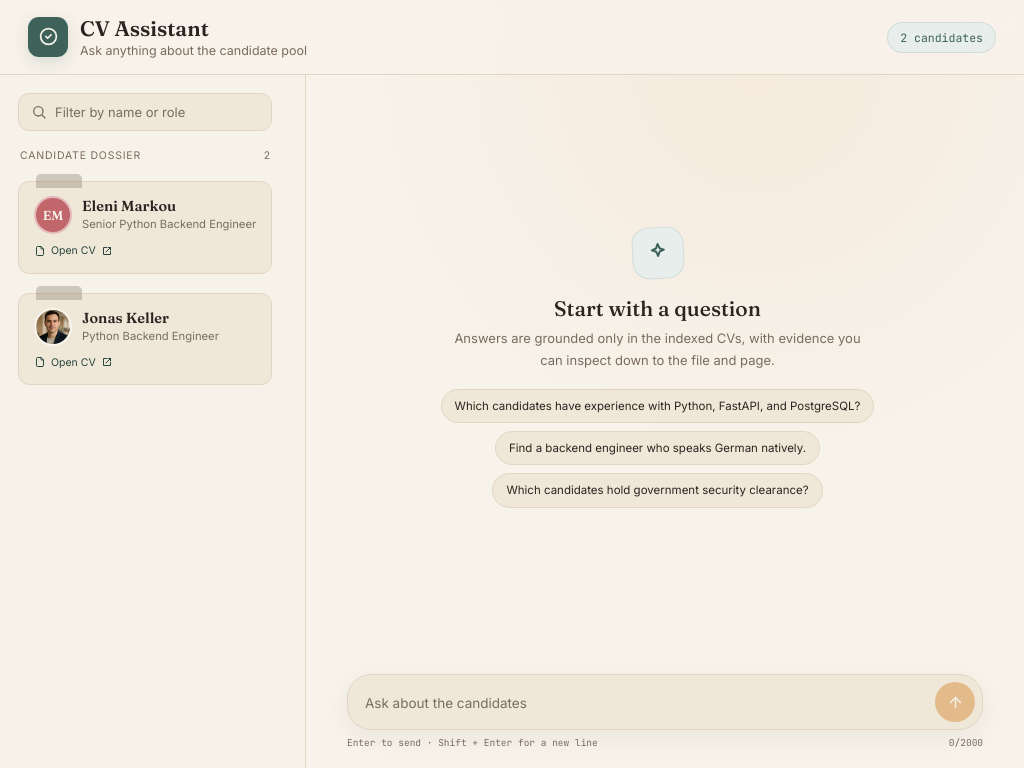
Test: CV Assistant application › renders partial support as a distinct evidence state
Expected: the text "2 candidates" is shown, [887,22,996,52]
Type "Find partial evidence" into the text box named "Ask a question about the candidates" at x=646, y=703, box [365,684,927,722]
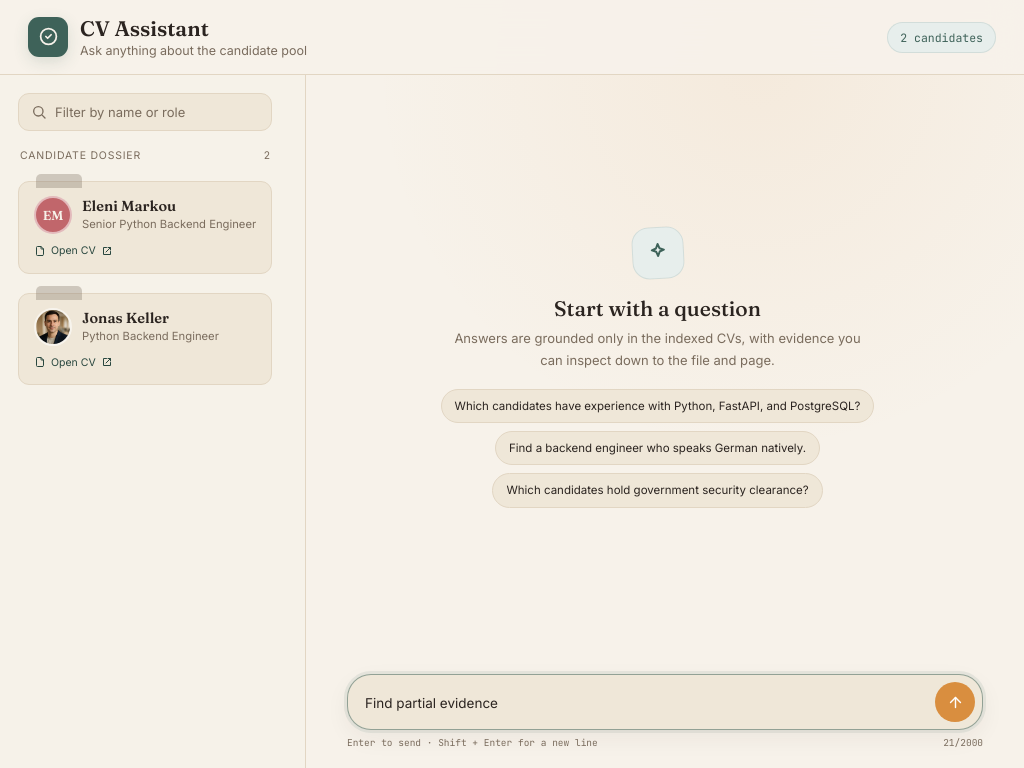
Click the button named "Send question" at x=955, y=702, box [935,682,975,722]
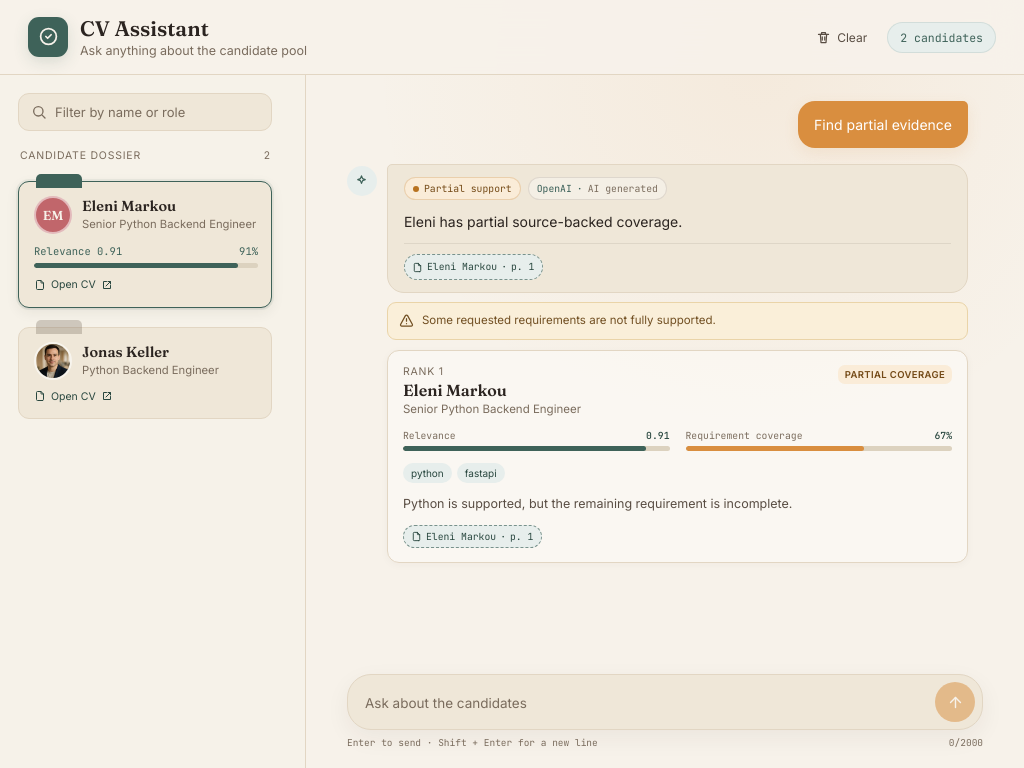
Expected: the text "Eleni has partial source-backed coverage." is shown, [404,213,682,230]
Expected: the text "Partial support" is shown, [404,177,521,200]
Expected: the text "Partial coverage" is shown, [838,364,952,384]
